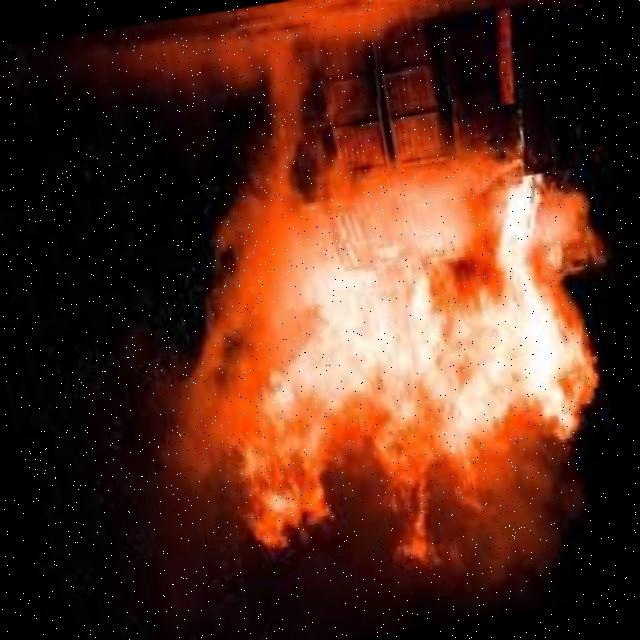explosion: (97, 55, 640, 595)
